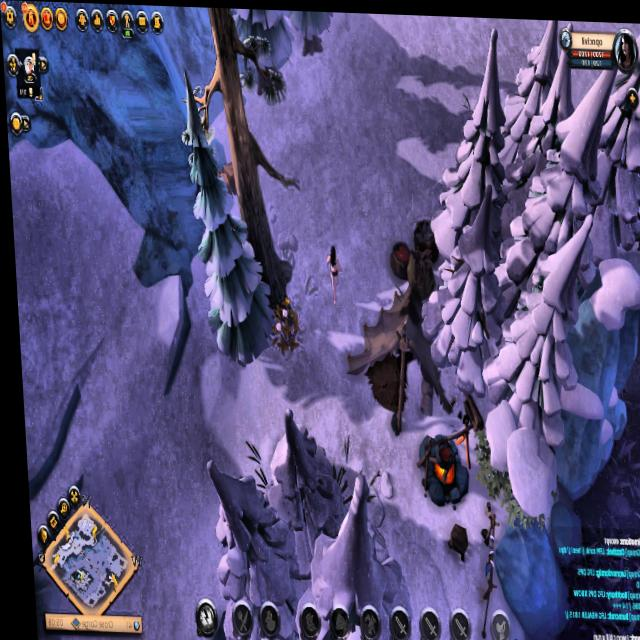cotton: (258, 295, 298, 357)
